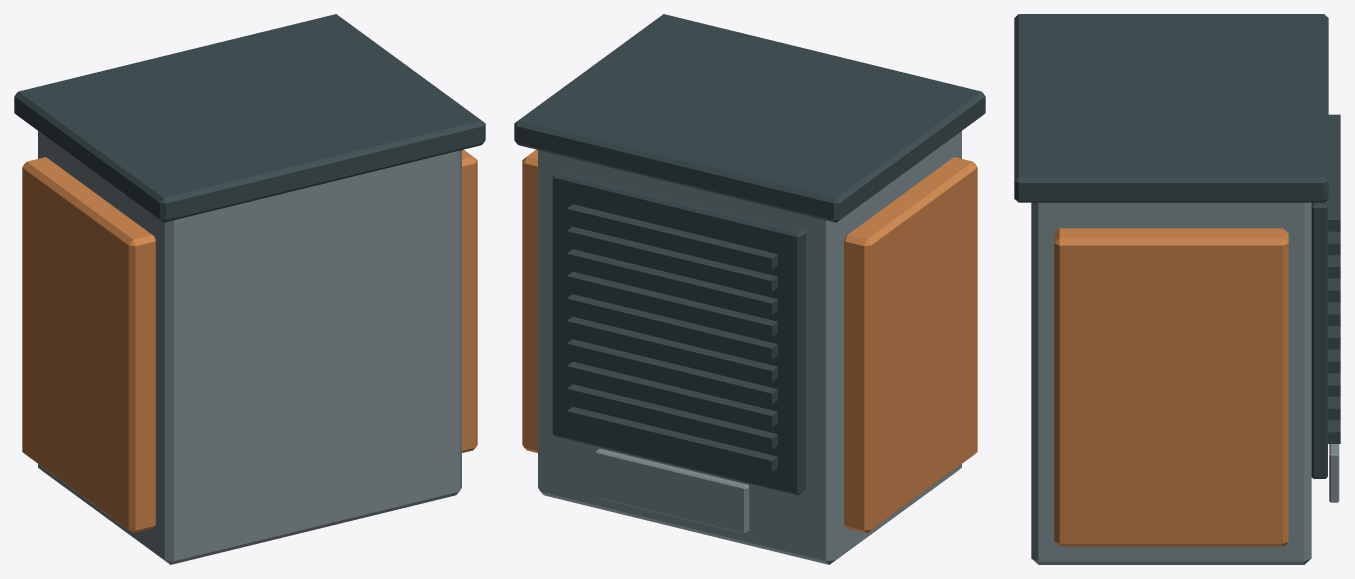
Rendered from ventilation_unit.glb.
3 views of the same model, side by side, from view 1: azimuth 30°, elevation 25°; view 2: azimuth 150°, elevation 25°; view 3: azimuth 270°, elevation 25° (orthographic). The views are drawn at different scales.
Visible parts, largest first — view 1: ventilation_unit_Surface; view 2: ventilation_unit_Surface; view 3: ventilation_unit_Surface.
Part boxes in pixels (x1,y1,x2,y2): ventilation_unit_Surface: (14,14,485,564); ventilation_unit_Surface: (514,14,985,564); ventilation_unit_Surface: (1014,14,1340,564).
Bounding box in the file's own units: 1.48 × 1.53 × 1.14.
1 material, 1 textured.
